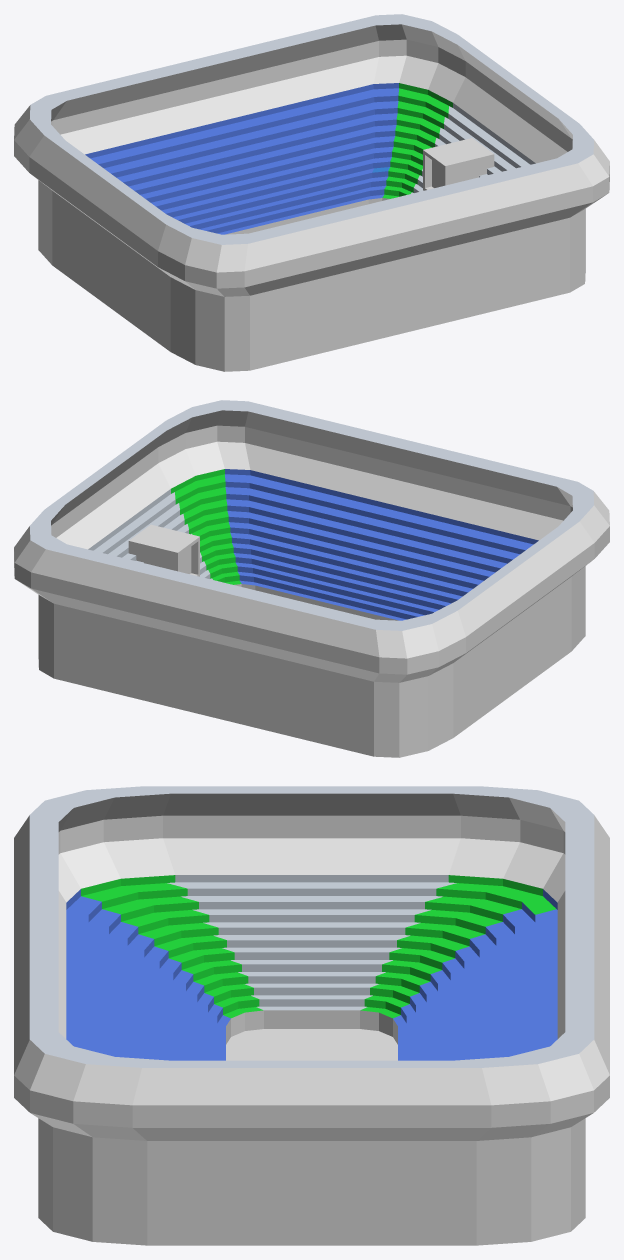
Rendered from NEWSite.fbx.
3 views of the same model, one above another, from view 1: azimuth 30°, elevation 25°; view 2: azimuth 150°, elevation 25°; view 3: azimuth 270°, elevation 25° (orthographic). The views are drawn at different scales.
Visible parts, largest first — view 1: 平面; view 2: 平面; view 3: 平面.
Boxes of the visible parts, x1=… form: 平面: x1=14, y1=14, x2=609, y2=371; 平面: x1=14, y1=400, x2=609, y2=757; 平面: x1=14, y1=786, x2=609, y2=1245.
Size of the model in its own units: 731 by 208 by 619.
